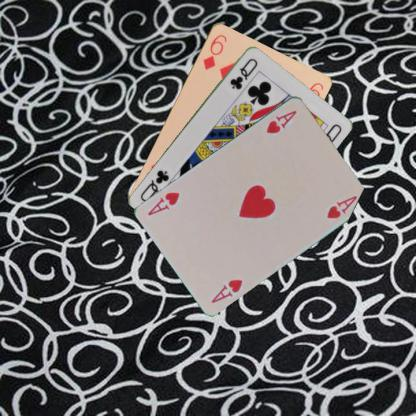6d: (200, 31, 228, 71)
Ah: (208, 276, 244, 304), (264, 108, 298, 134)
Qc: (227, 55, 259, 91)
